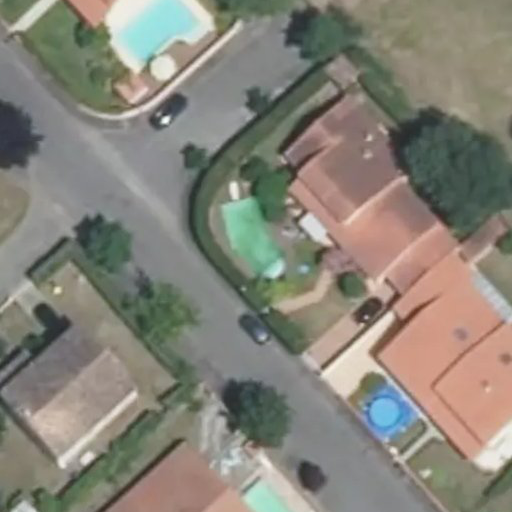pool: (211, 208, 290, 270)
